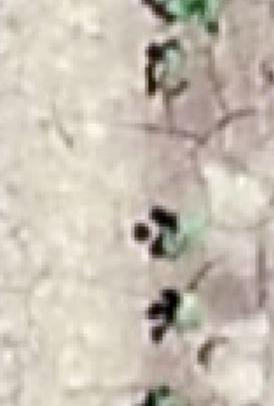cotton: (172, 1, 222, 22), (178, 299, 201, 328), (179, 215, 202, 235), (164, 50, 181, 72)
